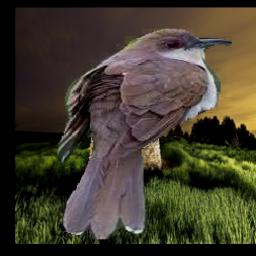Cuckoo: (56, 27, 233, 239)
